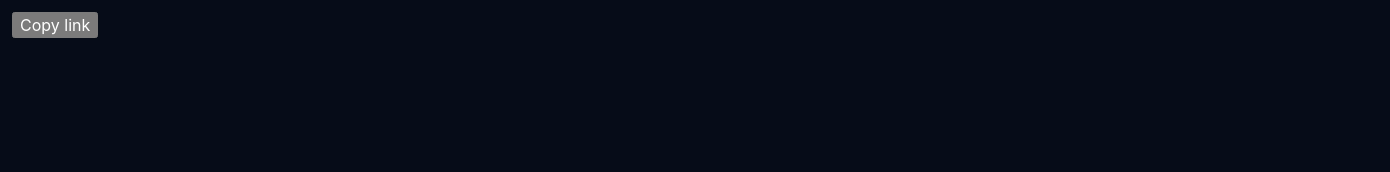
it: clears obsolete fallback feedback when the committed callback changes or sharing becomes disabled
Later steps or results of the test are not shown.
Click the button "Copy link" at (55, 25), box [12,12,98,38]
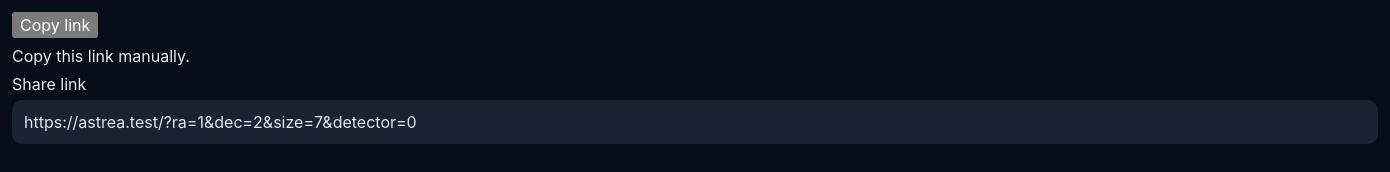
Check: the message "Copy this link manually." is shown, box [12,46,190,66]
